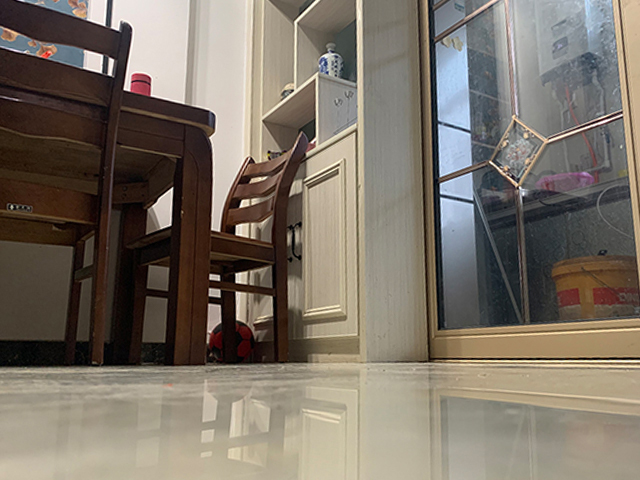cabinet: (245, 124, 413, 364)
stool: (1, 1, 134, 368), (119, 130, 308, 366)
